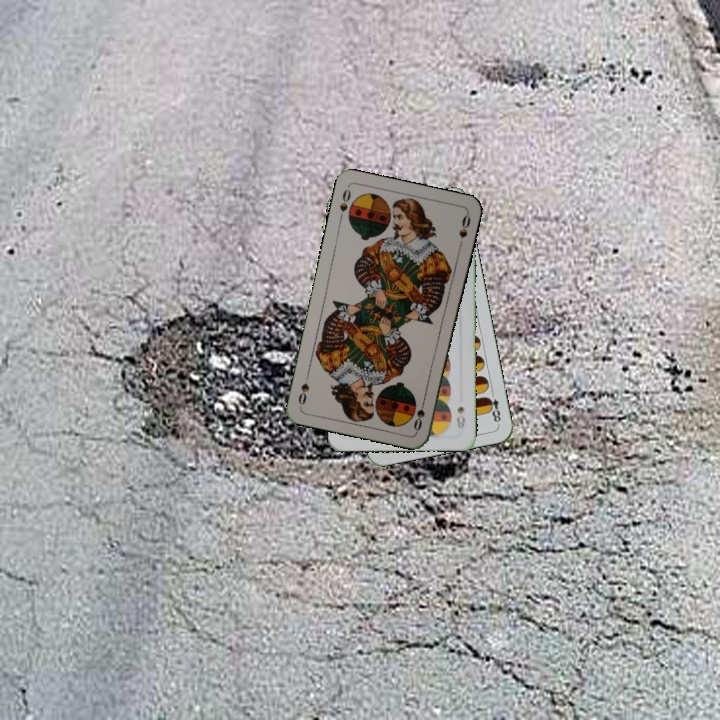E8: (483, 386, 503, 427)
S8: (452, 402, 467, 432)
SO: (410, 393, 428, 433), (335, 185, 353, 224)
